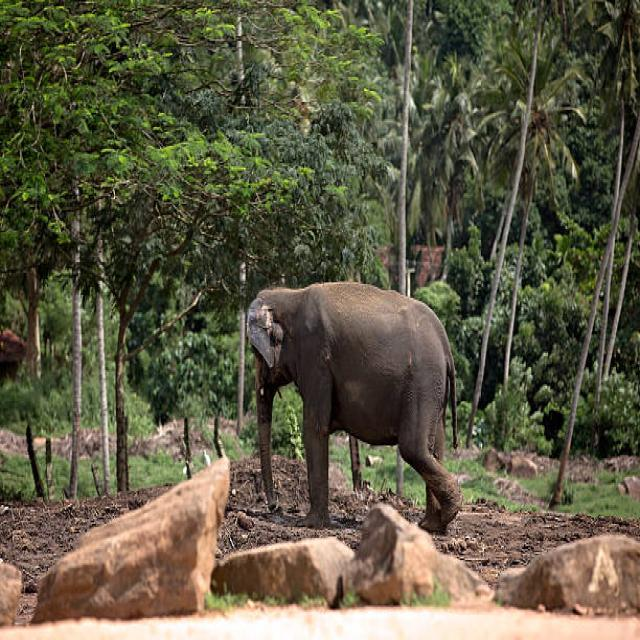Elephant: (241, 269, 478, 543)
